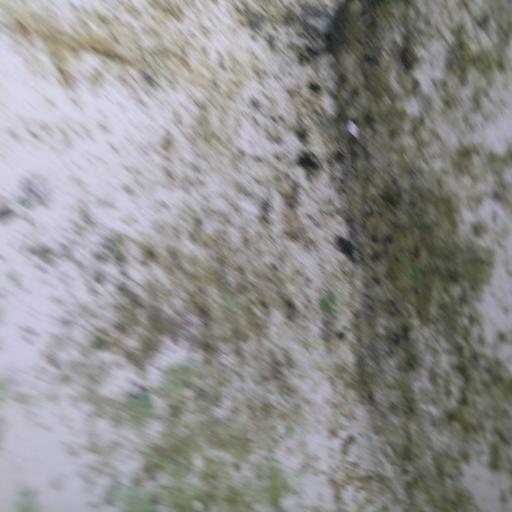algae: (196, 19, 498, 479)
